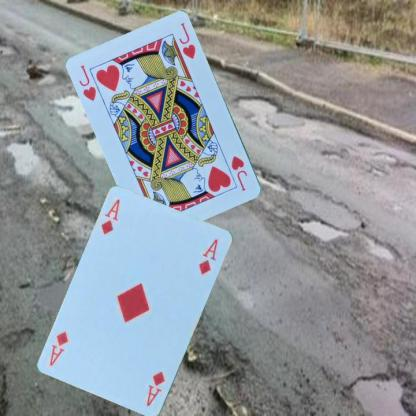Ad: (98, 196, 122, 236), (144, 369, 166, 408)
Jh: (77, 62, 98, 102), (229, 153, 249, 193)
